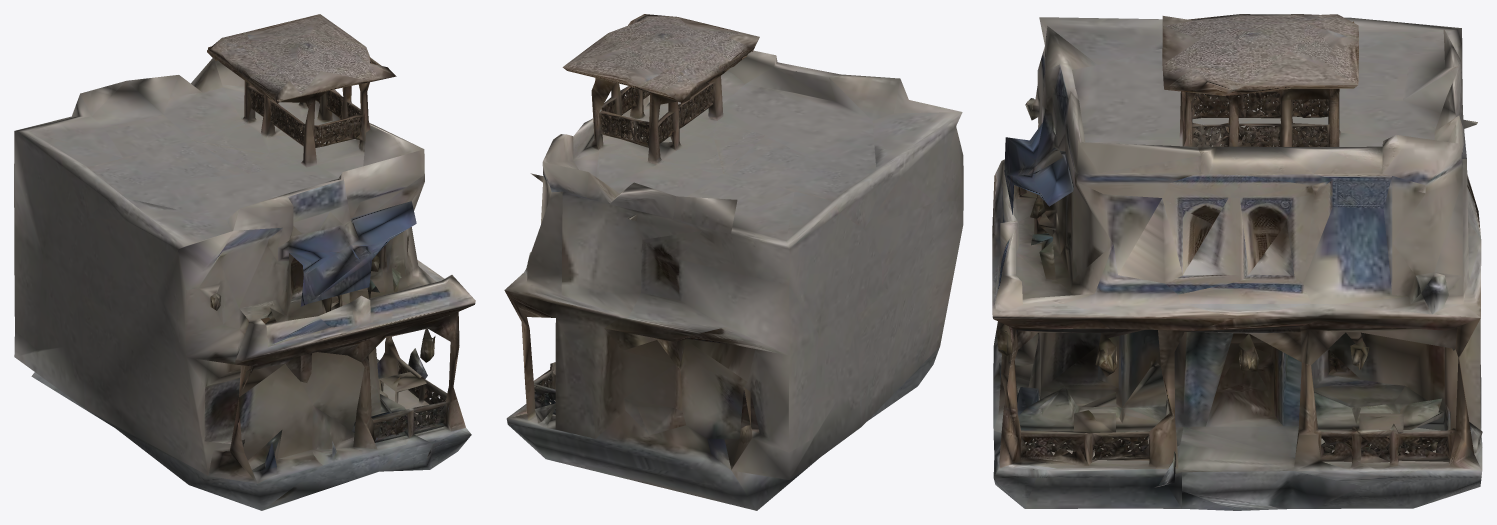
Rendered from tavern_0.glb.
3 views of the same model, side by side, from view 1: azimuth 30°, elevation 25°; view 2: azimuth 150°, elevation 25°; view 3: azimuth 270°, elevation 25° (orthographic). The views are drawn at different scales.
Visible parts, largest first — view 1: tripo_node_02d9c7b2-d514-4958-b198-2c4b8aa8655b; view 2: tripo_node_02d9c7b2-d514-4958-b198-2c4b8aa8655b; view 3: tripo_node_02d9c7b2-d514-4958-b198-2c4b8aa8655b.
Part boxes in pixels (x1,y1,x2,y2): tripo_node_02d9c7b2-d514-4958-b198-2c4b8aa8655b: (14,14,475,510); tripo_node_02d9c7b2-d514-4958-b198-2c4b8aa8655b: (504,14,963,510); tripo_node_02d9c7b2-d514-4958-b198-2c4b8aa8655b: (992,14,1482,510).
Size of the model in its own units: 0.8086 by 0.9406 by 0.9496.
1 material, 1 textured.
